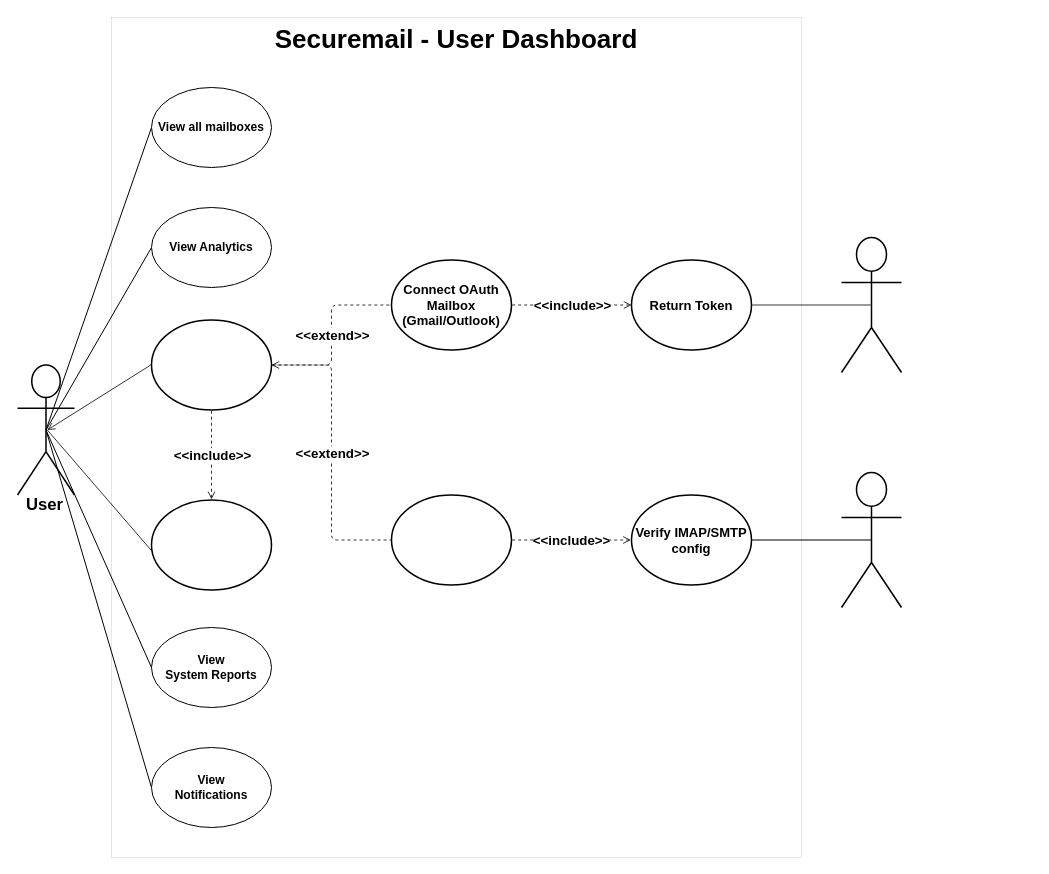
This 1049x874 diagram has some shape labels left out. The shapes that lost their labels are listed below. From the top down, each one's centre as x and y in pixels, then its label:
At point (871, 304): "Google/Microsoft OAuth".
At point (211, 364): "Connect mailbox".
At point (211, 544): "Sync Mailbox".
At point (451, 539): "Connect Custom IMAP Maibox".
At point (871, 539): "Custom Domain".
